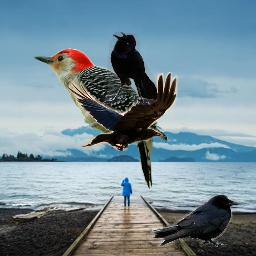Crow: (65, 72, 179, 151), (152, 194, 239, 247), (103, 32, 157, 105)
Woodpecker: (34, 48, 167, 189)
